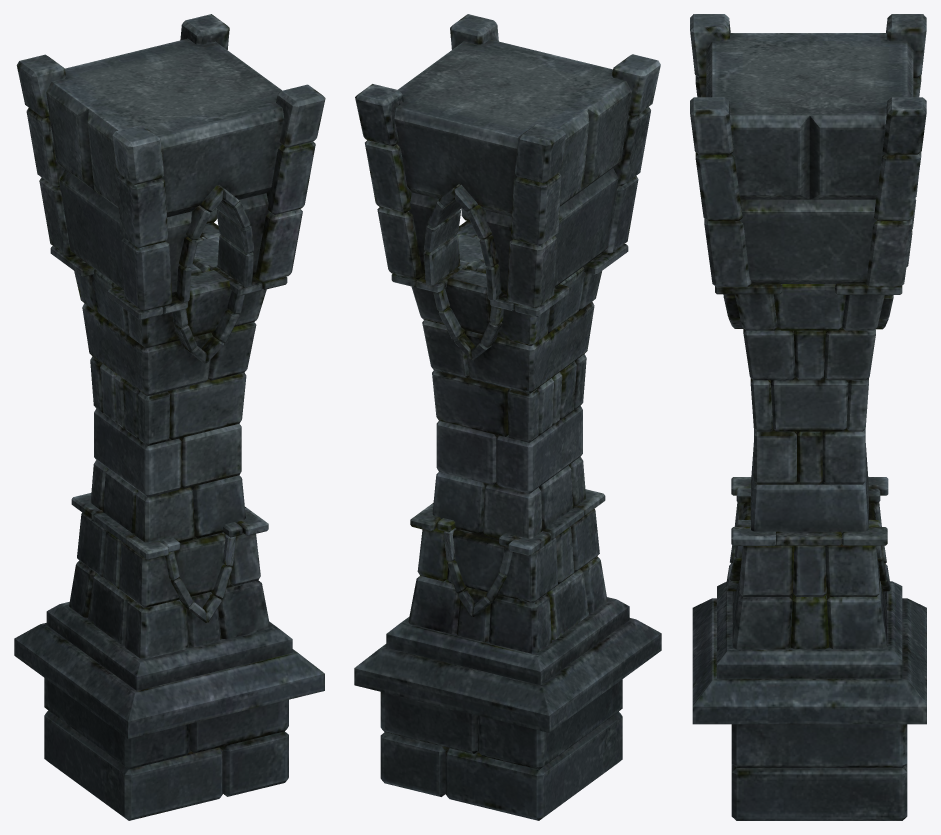
Rendered from postament.glb.
3 renders of one model, left to right at view 1: azimuth 30°, elevation 25°; view 2: azimuth 150°, elevation 25°; view 3: azimuth 270°, elevation 25°, orthographic. The views are drawn at different scales.
Parts seen in each view (by area): view 1: defaultMaterial; view 2: defaultMaterial; view 3: defaultMaterial.
Boxes of the visible parts, left/top/right/bottom form: defaultMaterial: left=14, top=14, right=325, bottom=820; defaultMaterial: left=354, top=14, right=661, bottom=820; defaultMaterial: left=690, top=14, right=926, bottom=820.
Size of the model in its own units: 0.594 by 2 by 0.5969.
1 material, 1 textured.
